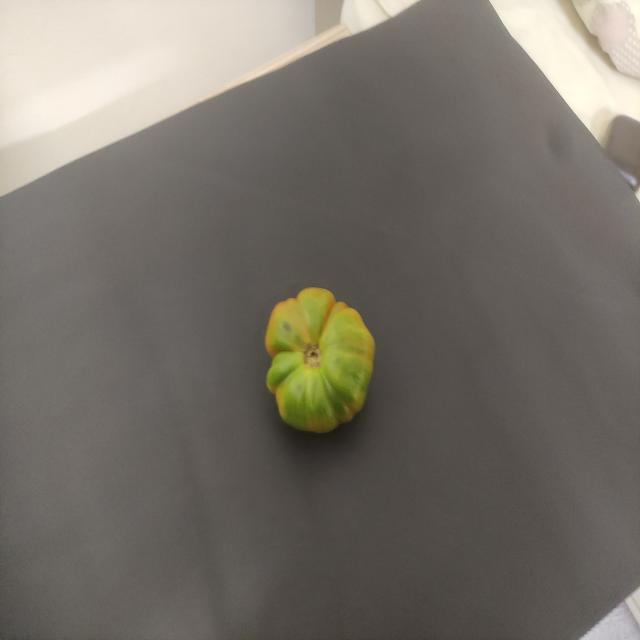yesil: (252, 282, 394, 453)
